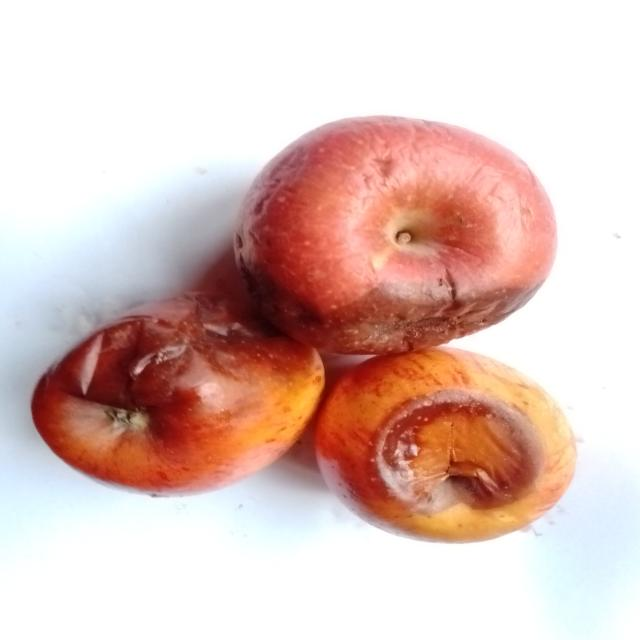apple: (235, 116, 556, 353), (32, 294, 324, 494), (315, 348, 575, 541)
